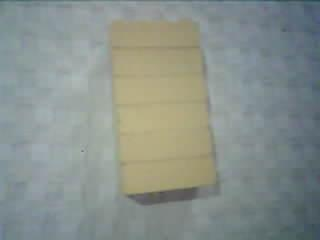lego: (105, 17, 218, 197)
